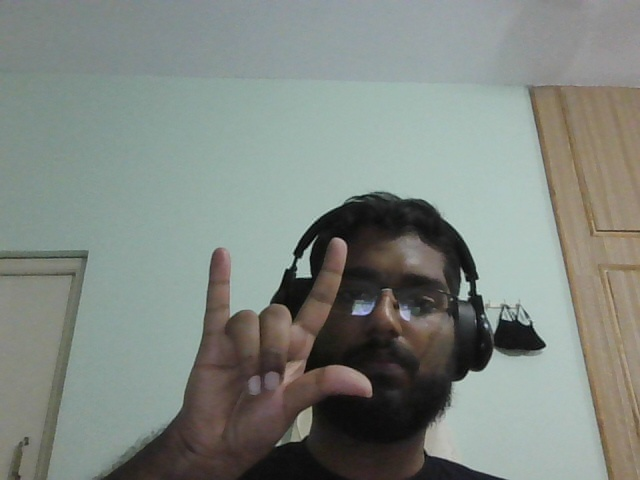I Love You: (182, 234, 378, 462)
